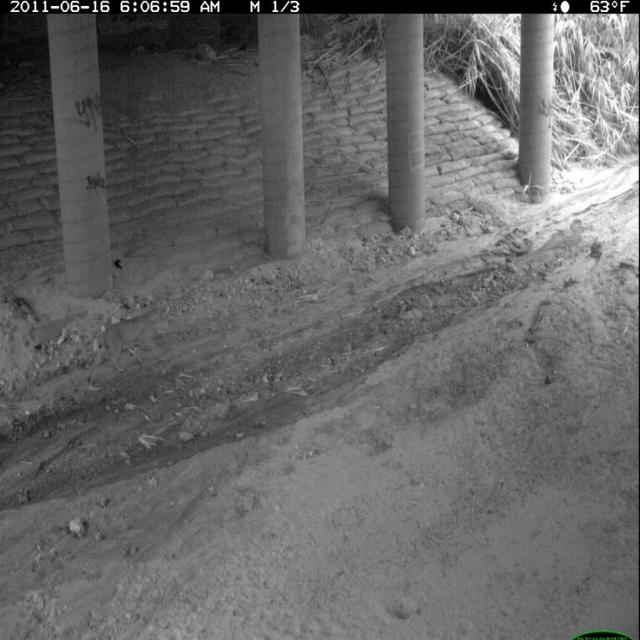bobcat: (84, 303, 172, 391)
